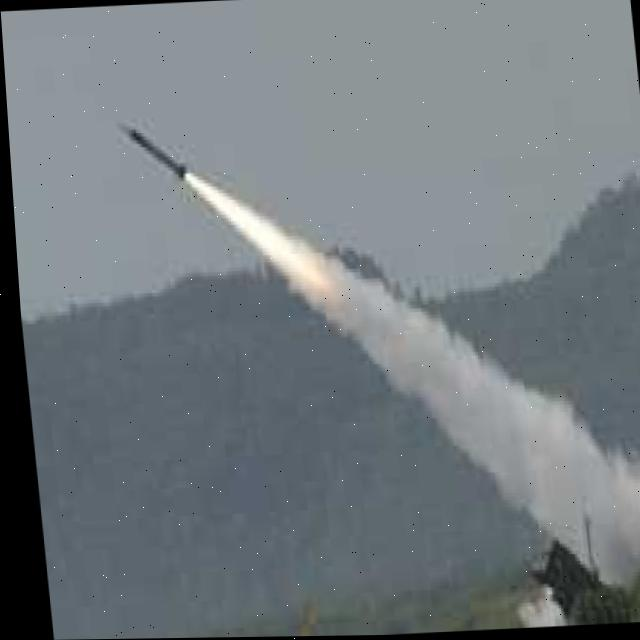missile: (110, 112, 193, 204)
